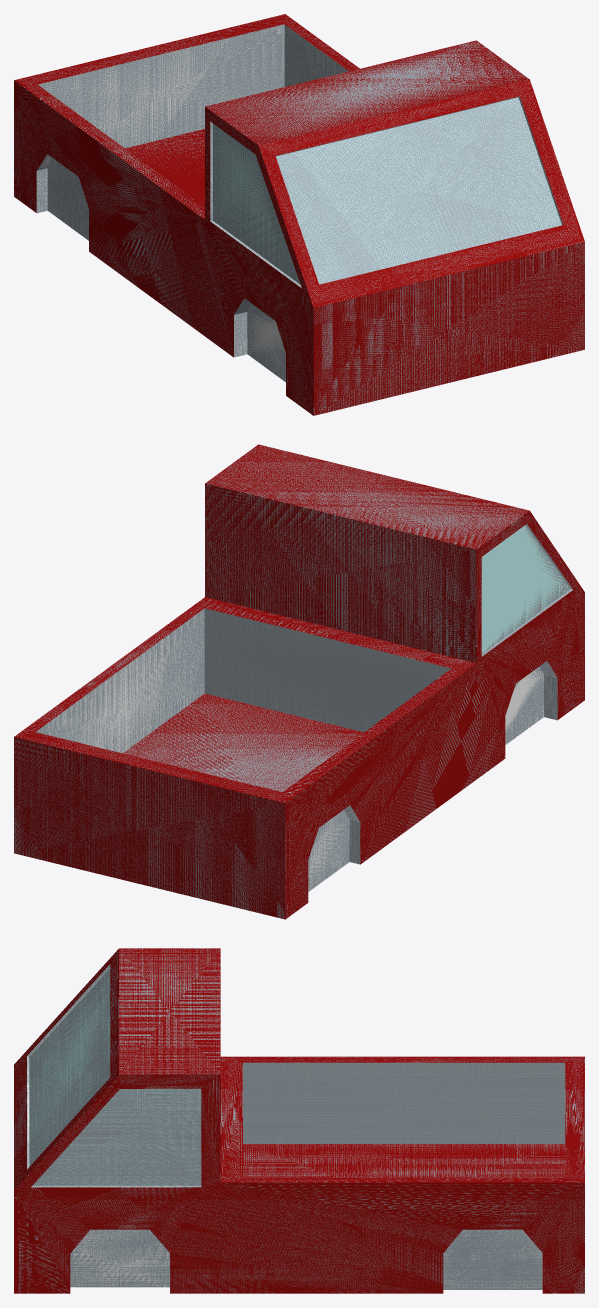
File: Truck.fbx
3 views of the same model, one above another, from view 1: azimuth 30°, elevation 25°; view 2: azimuth 150°, elevation 25°; view 3: azimuth 270°, elevation 25° (orthographic). The views are drawn at different scales.
Parts seen in each view (by area): view 1: Model; view 2: Model; view 3: Model.
Boxes of the visible parts, x1,y1,x2,y2 form: Model: (14,14,584,415); Model: (14,444,584,919); Model: (14,948,584,1293).
Size of the model in its own units: 1 by 0.81 by 1.91.
